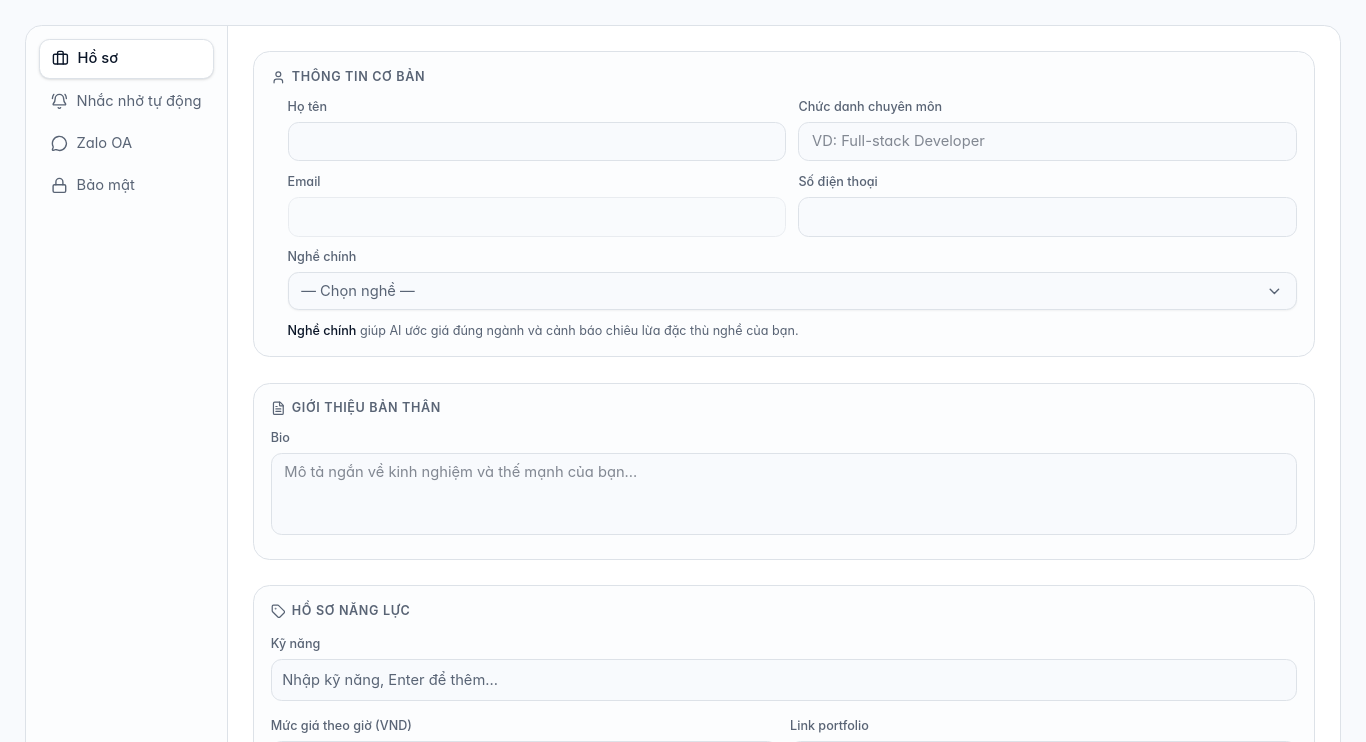
Test: <ProfileSettings /> — tab Bảo mật › đặt xong thì form đổi NGAY sang dạng 'Đổi mật khẩu' ba ô
Click the button "Bảo mật". click: (126,186)
box: [39,167,214,204]
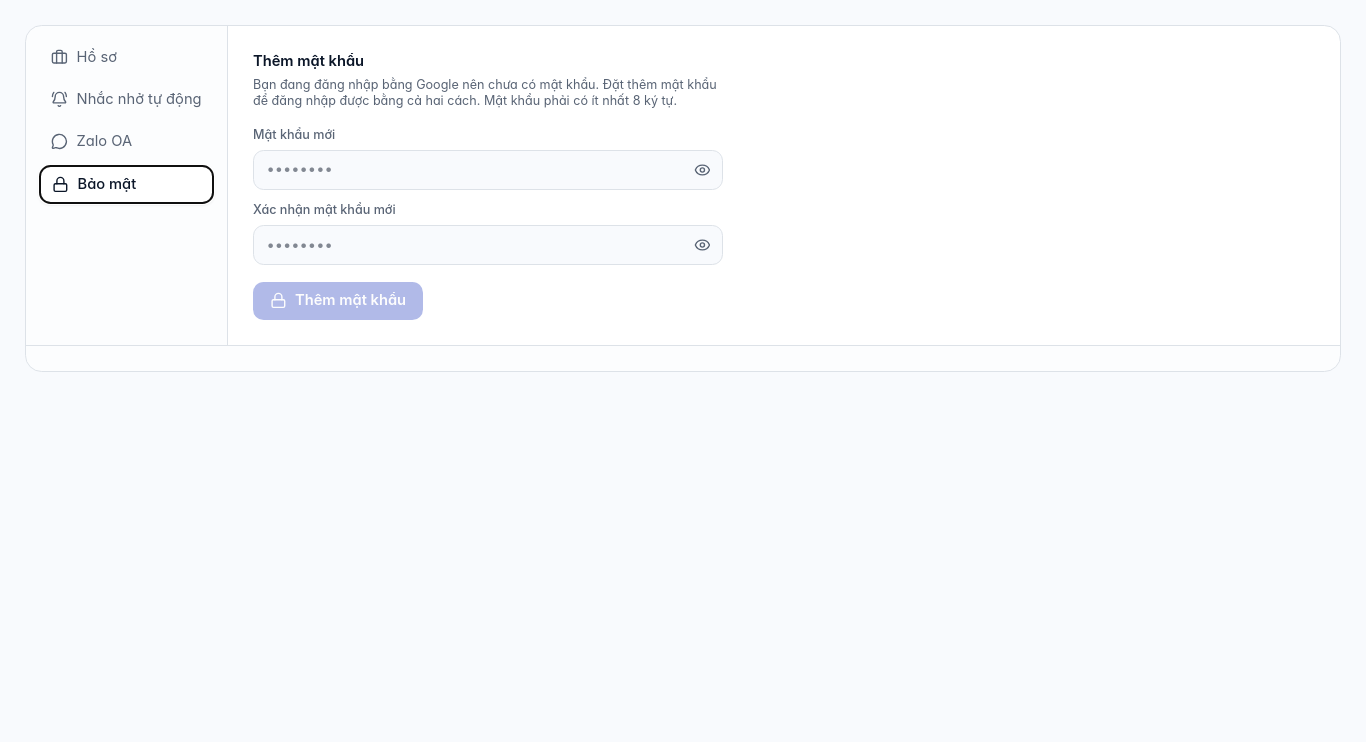
Type "MatKhauMoi2026" into the password field with placeholder "••••••••". click: (488,170)
box: [253,150,723,190]
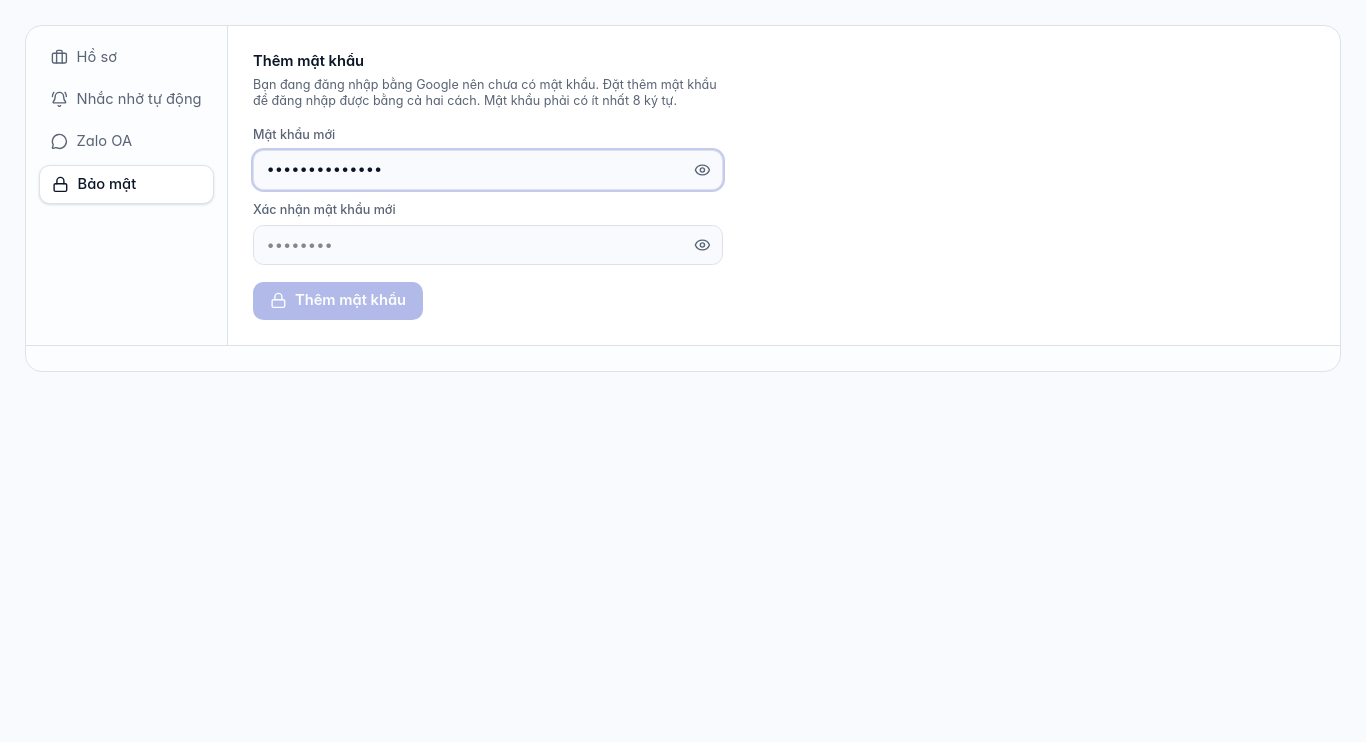
Type "MatKhauMoi2026" into the password field with placeholder "••••••••". click: (488,245)
box: [253,225,723,265]
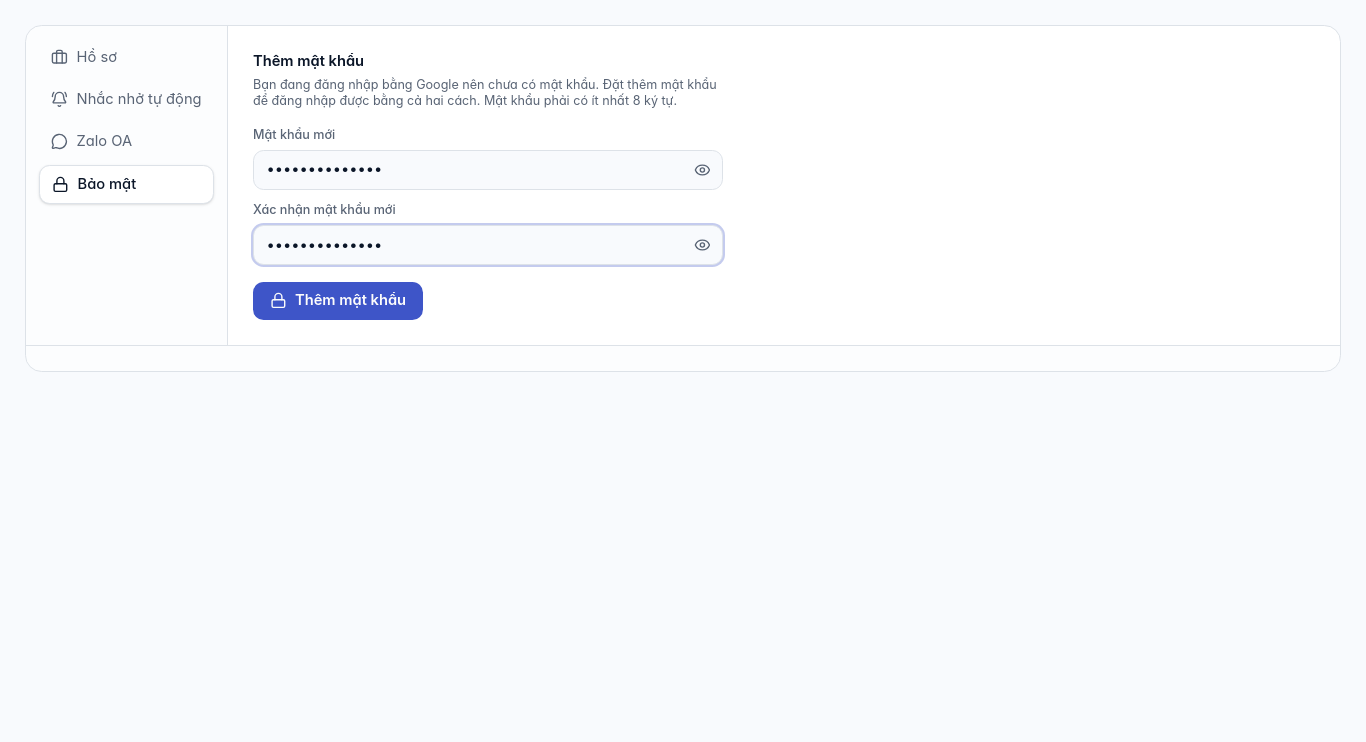
Click the button "Thêm mật khẩu". click: (338,301)
box: [253,282,423,320]
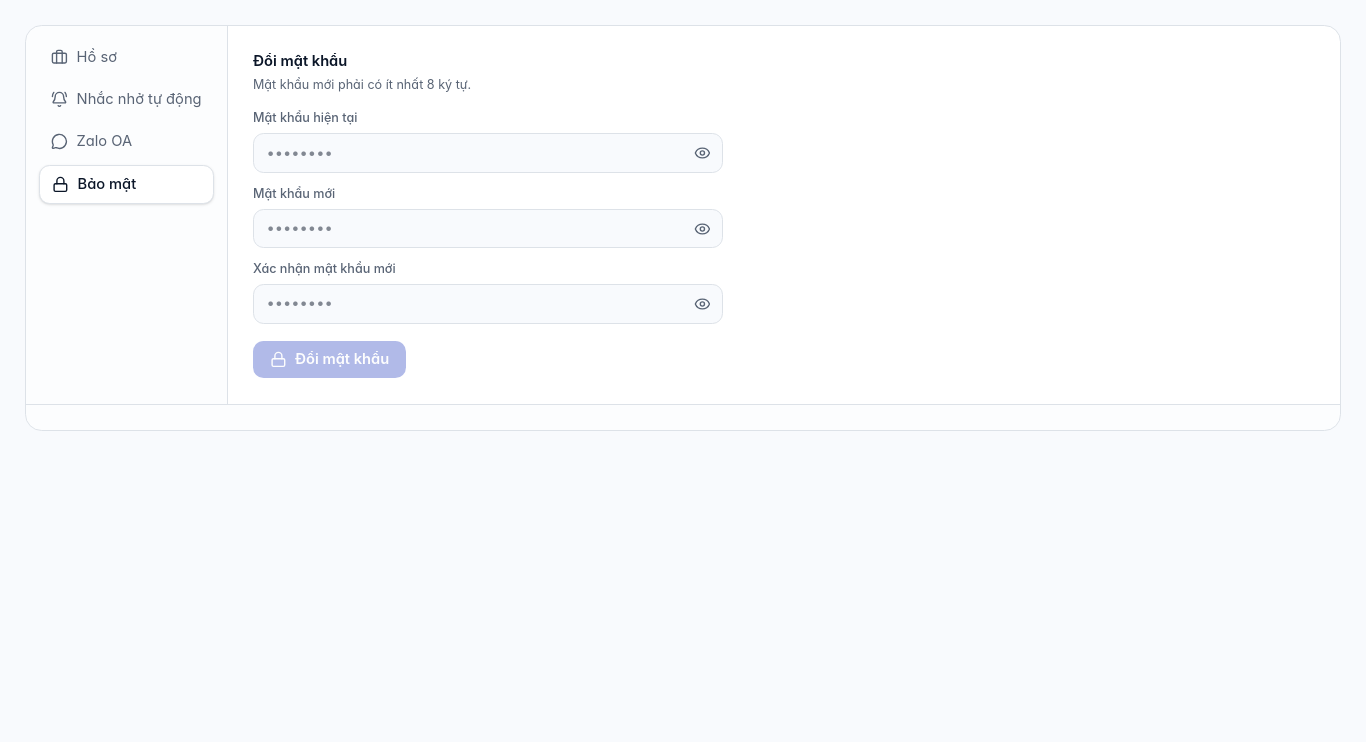
Check: the text "Mật khẩu hiện tại" is shown, box [253,110,358,125]
Check: the number of password fields with placeholder "••••••••" is 3, box [253,133,723,173]; [253,209,723,248]; [253,284,723,324]
